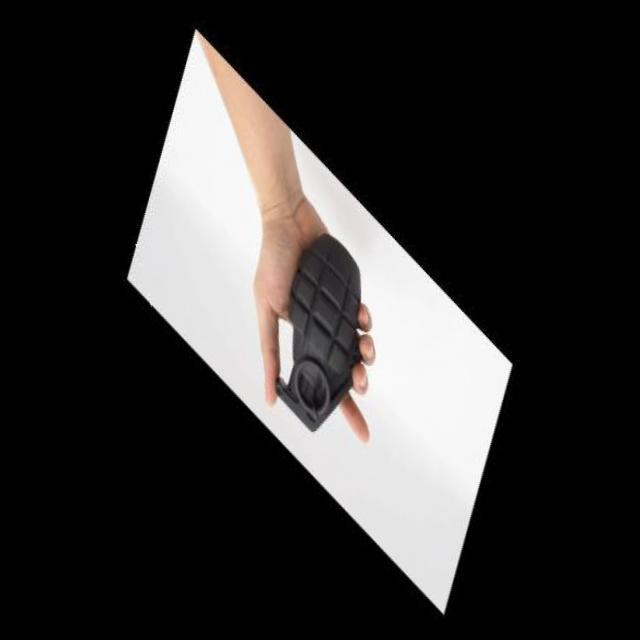grenade: (238, 209, 398, 447)
